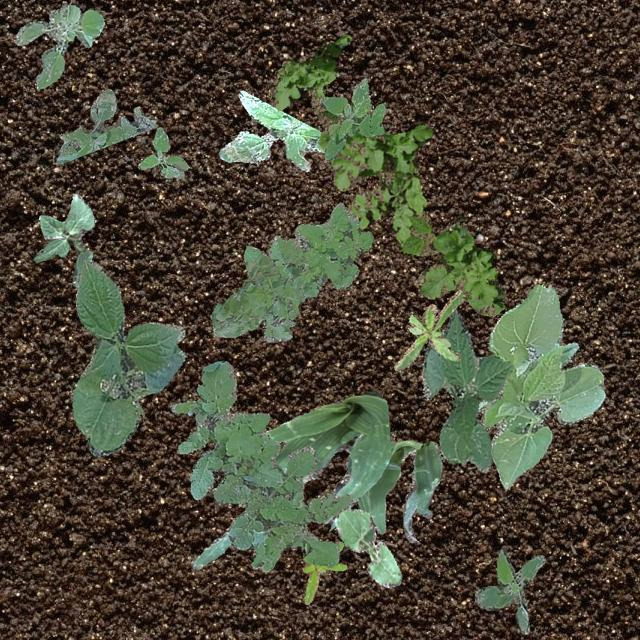crop: (190, 390, 390, 568), (476, 284, 604, 490), (70, 258, 186, 456), (421, 310, 512, 470), (328, 439, 442, 542), (32, 192, 94, 286), (334, 506, 401, 586)
weed: (268, 34, 504, 316), (170, 360, 352, 570), (210, 202, 372, 342), (218, 90, 324, 170), (15, 3, 104, 88), (56, 88, 156, 162), (474, 546, 544, 634), (394, 288, 464, 371), (318, 78, 384, 160), (302, 540, 346, 604), (138, 126, 188, 178)
